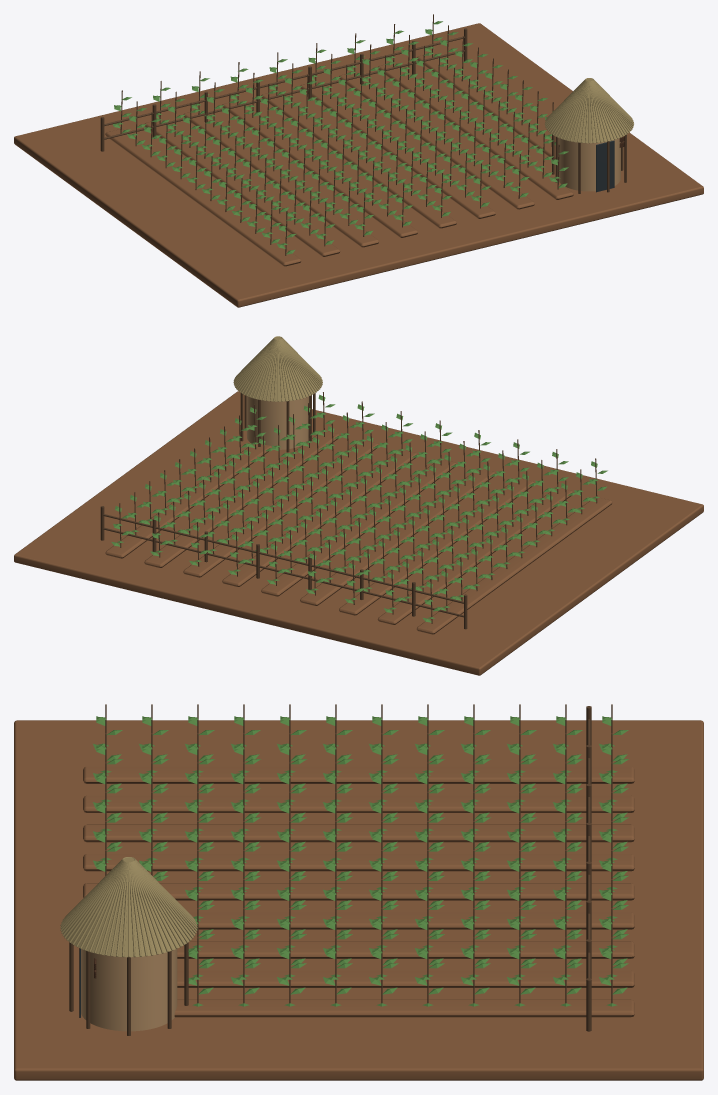
Rendered from yam-farm.glb.
3 views of the same model, one above another, from view 1: azimuth 30°, elevation 25°; view 2: azimuth 150°, elevation 25°; view 3: azimuth 270°, elevation 25° (orthographic). The views are drawn at different scales.
Visible parts, largest first — view 1: Earth plot, Raised planting ridge, Raised planting ridge.002, Raised planting ridge.001, Raised planting ridge.007, Raised planting ridge.003, Raised planting ridge.006, Raised planting ridge.004, Raised planting ridge.005, Raised planting ridge.008, Round earthen wall, Conical thatch roof (+3 smaller); view 2: Earth plot, Raised planting ridge, Raised planting ridge.001, Raised planting ridge.002, Raised planting ridge.003, Raised planting ridge.007, Raised planting ridge.006, Raised planting ridge.004, Raised planting ridge.005, Raised planting ridge.008, Round earthen wall, Conical thatch roof (+2 smaller); view 3: Earth plot, Raised planting ridge.002, Raised planting ridge.001, Raised planting ridge, Raised planting ridge.008, Raised planting ridge.003, Raised planting ridge.004, Raised planting ridge.007, Raised planting ridge.006, Raised planting ridge.005, Round earthen wall, Conical thatch roof (+1 smaller).
Part boxes in pixels (bbox=[...]): Earth plot: bbox=[14, 23, 703, 307]; Raised planting ridge: bbox=[105, 129, 301, 266]; Raised planting ridge.002: bbox=[183, 110, 378, 247]; Raised planting ridge.001: bbox=[145, 119, 340, 256]; Raised planting ridge.007: bbox=[378, 62, 573, 199]; Raised planting ridge.003: bbox=[222, 100, 417, 237]; Raised planting ridge.006: bbox=[339, 72, 534, 209]; Raised planting ridge.004: bbox=[261, 91, 456, 228]; Raised planting ridge.005: bbox=[300, 81, 495, 218]; Raised planting ridge.008: bbox=[417, 53, 555, 159]; Round earthen wall: bbox=[558, 138, 620, 191]; Conical thatch roof: bbox=[546, 78, 632, 143]; Earth plot: bbox=[14, 391, 703, 675]; Raised planting ridge: bbox=[416, 498, 612, 634]; Raised planting ridge.001: bbox=[377, 488, 573, 624]; Raised planting ridge.002: bbox=[339, 478, 534, 615]; Raised planting ridge.003: bbox=[300, 469, 495, 605]; Raised planting ridge.007: bbox=[144, 431, 339, 567]; Raised planting ridge.006: bbox=[183, 441, 378, 577]; Raised planting ridge.004: bbox=[261, 460, 456, 596]; Raised planting ridge.005: bbox=[222, 450, 417, 586]; Raised planting ridge.008: bbox=[105, 442, 272, 558]; Round earthen wall: bbox=[246, 396, 309, 449]; Conical thatch roof: bbox=[235, 336, 321, 401]; Earth plot: bbox=[14, 720, 703, 1080]; Raised planting ridge.002: bbox=[83, 824, 634, 842]; Raised planting ridge.001: bbox=[83, 795, 634, 812]; Raised planting ridge: bbox=[83, 766, 634, 783]; Raised planting ridge.008: bbox=[174, 999, 634, 1017]; Raised planting ridge.003: bbox=[83, 854, 634, 871]; Raised planting ridge.004: bbox=[83, 883, 634, 900]; Raised planting ridge.007: bbox=[177, 970, 634, 987]; Raised planting ridge.006: bbox=[177, 941, 634, 958]; Raised planting ridge.005: bbox=[189, 912, 634, 929]; Round earthen wall: bbox=[81, 949, 177, 1031]; Conical thatch roof: bbox=[62, 857, 195, 957].
Size of the model in its own units: 18 by 3.93 by 15.
Materials: 7 (1 with a texture image).
